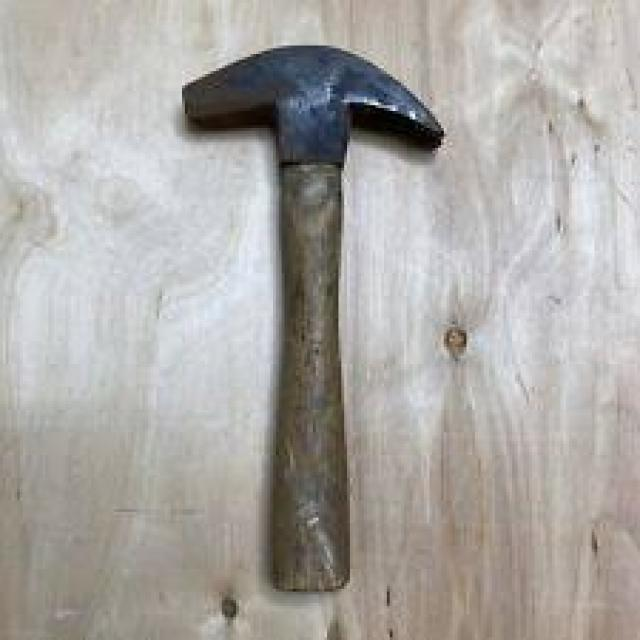hammer: (174, 28, 446, 614)
